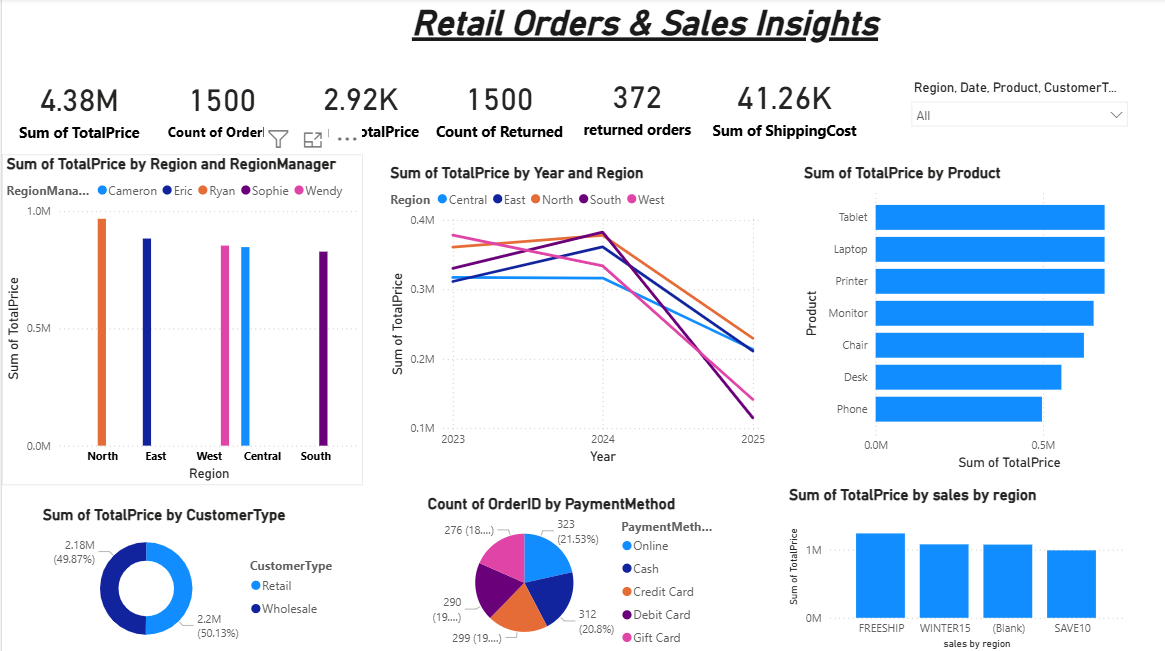

What the dashboard file says about the page in this screenshot:
{"tool":"powerbi","page":{"name":"Page 1","canvas":[1280,720],"ordinal":0},"visuals":[{"type":"card","fields":{"Values":["Sum(Sheet1.TotalPrice)"]},"box":[0,46.5,170,146.7],"z":0},{"type":"card","fields":{"Values":["CountNonNull(Sheet1.OrderID)"]},"box":[154.1,50.1,176.1,138.2],"z":1000},{"type":"card","fields":{"Values":["Avg(Sheet1.TotalPrice)"]},"box":[310.6,24.5,167.5,188.3],"z":2000},{"type":"card","fields":{"Values":["CountNonNull(Sheet1.Returned)"]},"box":[462.2,24.5,167.5,188.3],"z":3000},{"type":"card","fields":{"Values":["Sum(Sheet1.ShippingCost)"]},"box":[771.6,46.5,176.1,141.8],"z":4000},{"type":"card","fields":{"Values":["Sheet1.returned orders"]},"box":[616.3,23.2,162.6,188.3],"z":5000},{"type":"lineChart","fields":{"Category":["Sheet1.OrderDate.Variation.Date Hierarchy.Year","Sheet1.OrderDate.Variation.Date Hierarchy.Month"],"Y":["Sum(Sheet1.TotalPrice)"],"Series":["Sheet1.Region"]},"box":[421.3,181.1,421.3,334.8],"z":6000},{"type":"barChart","fields":{"Category":["Sheet1.Product"],"Y":["Sum(Sheet1.TotalPrice)"]},"box":[875.5,181.1,396.6,341.7],"z":7000},{"type":"slicer","fields":{"Values":["Sheet1.Region","Sheet1.Date","Sheet1.Product","Sheet1.CustomerType","Sheet1.Salesperson"]},"box":[988,85.6,258,88],"z":8000},{"type":"textbox","box":[0,557,334,163],"z":9000},{"type":"textbox","box":[255.6,0,901.2,62.4],"z":10000},{"type":"clusteredColumnChart","fields":{"Category":["Sheet1.Region"],"Series":["Sheet1.RegionManager"],"Y":["Sum(Sheet1.TotalPrice)"]},"box":[0,171.5,396.6,363.6],"z":11000},{"type":"donutChart","fields":{"Category":["Sheet1.CustomerType"],"Y":["Sum(Sheet1.TotalPrice)"]},"box":[39.8,557.1,344.4,163.3],"z":12000},{"type":"pieChart","fields":{"Category":["Sheet1.PaymentMethod"],"Y":["CountNonNull(Sheet1.OrderID)"]},"box":[462.4,544.8,329.3,175.6],"z":13000},{"type":"columnChart","fields":{"Category":["Sheet1.Promotion"],"Y":["Sum(Sheet1.TotalPrice)"]},"box":[859,535.2,377.4,185.2],"z":14000}]}

Visuals, with their boxes in screenshot pixels (x1, y1, x2, y2), scaled from the page's 1280x720 canvas onto the 1165x651 screenshot:
card - Sum(Sheet1.TotalPrice): 0/42/155/175
card - CountNonNull(Sheet1.OrderID): 140/45/301/170
card - Avg(Sheet1.TotalPrice): 283/22/435/192
card - CountNonNull(Sheet1.Returned): 421/22/573/192
card - Sum(Sheet1.ShippingCost): 702/42/863/170
card - Sheet1.returned orders: 561/21/709/191
lineChart - Sheet1.OrderDate.Variation.Date Hierarchy.Year x Sheet1.OrderDate.Variation.Date Hierarchy.Month: 383/164/767/466
barChart - Sheet1.Product x Sum(Sheet1.TotalPrice): 797/164/1158/473
slicer - Sheet1.Region x Sheet1.Date: 899/77/1134/157
textbox: 0/504/304/650
textbox: 233/0/1053/56
clusteredColumnChart - Sheet1.Region x Sheet1.RegionManager: 0/155/361/484
donutChart - Sheet1.CustomerType x Sum(Sheet1.TotalPrice): 36/504/350/650
pieChart - Sheet1.PaymentMethod x CountNonNull(Sheet1.OrderID): 421/493/721/650
columnChart - Sheet1.Promotion x Sum(Sheet1.TotalPrice): 782/484/1125/650
